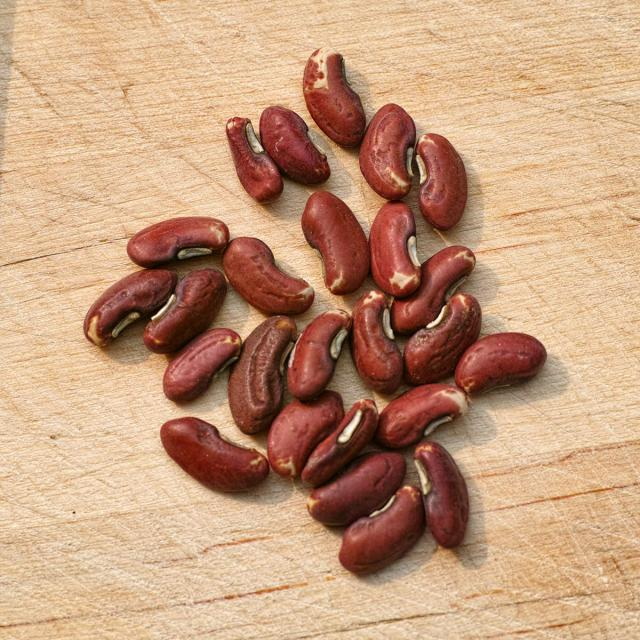organic: (228, 319, 300, 437), (340, 488, 435, 576), (305, 456, 412, 533), (85, 269, 184, 351), (162, 419, 270, 492), (404, 296, 487, 389), (301, 404, 384, 493), (144, 271, 229, 357), (413, 441, 480, 547), (303, 47, 369, 153), (224, 239, 317, 313), (300, 188, 361, 297), (268, 393, 344, 475), (289, 308, 355, 401), (458, 334, 546, 402), (381, 385, 471, 451), (355, 291, 409, 398), (163, 329, 241, 403), (128, 216, 236, 268), (364, 202, 425, 294), (256, 108, 332, 181), (223, 116, 285, 204), (417, 137, 468, 227), (363, 102, 412, 194)
